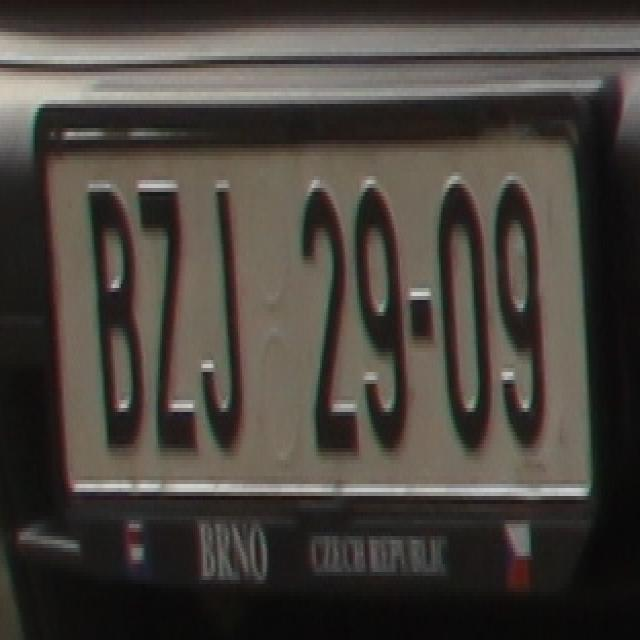0: (432, 172, 494, 444)
2: (299, 180, 362, 460)
9: (353, 176, 408, 456), (494, 176, 548, 448)
B: (82, 184, 144, 448)
Z: (137, 180, 199, 452)
